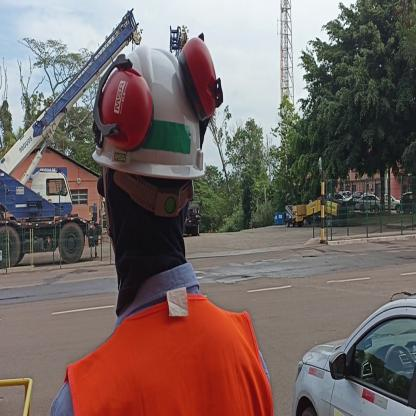Balaclava: (92, 42, 206, 180), (99, 164, 194, 284)
